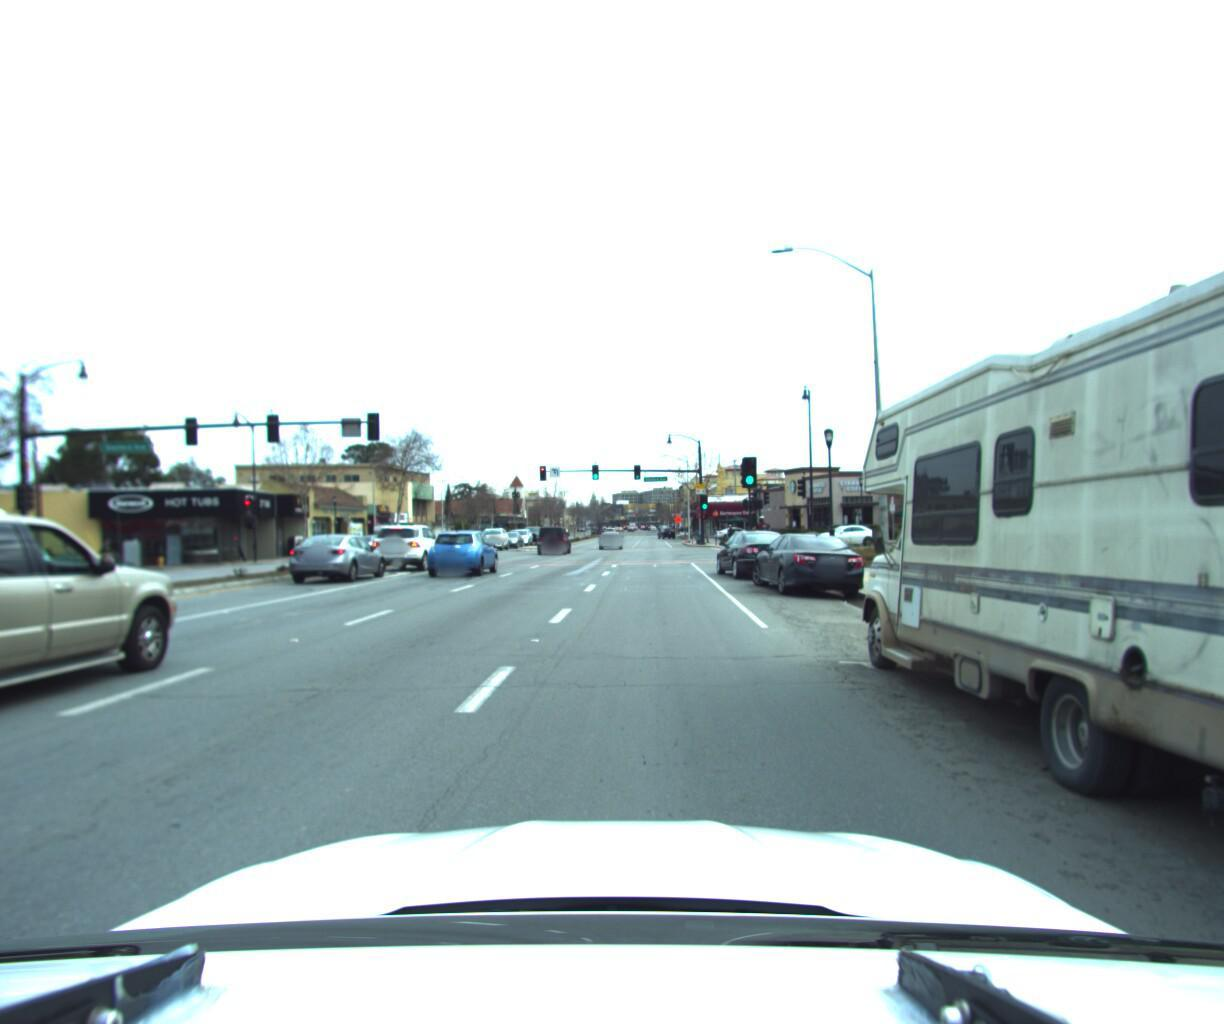bicycle: (745, 510, 783, 558), (88, 539, 130, 574), (717, 518, 741, 542)
car: (0, 503, 196, 785), (750, 525, 869, 600), (279, 529, 394, 587), (711, 524, 801, 580), (365, 521, 449, 573), (427, 524, 502, 578), (804, 519, 878, 544), (363, 518, 413, 551), (536, 522, 573, 554), (476, 525, 510, 549), (495, 528, 525, 547), (596, 526, 620, 547)
other_vehicle: (831, 0, 1224, 1024)
